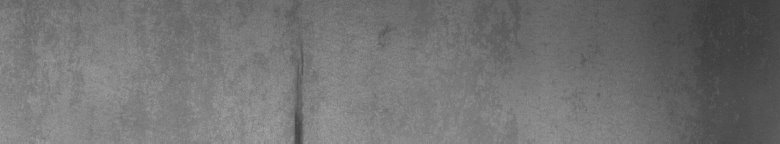hd: (289, 66, 308, 136)
